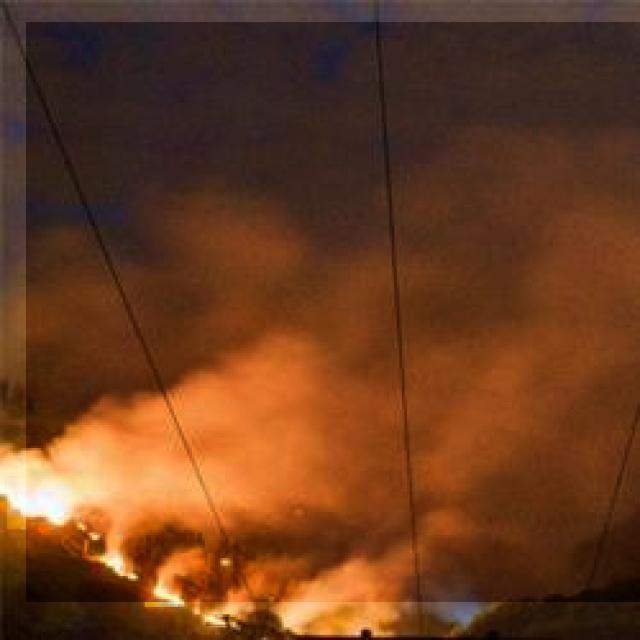Fire: (7, 478, 78, 529), (145, 580, 178, 607), (99, 547, 131, 574), (206, 614, 229, 626)
Smoke: (26, 22, 640, 602)
